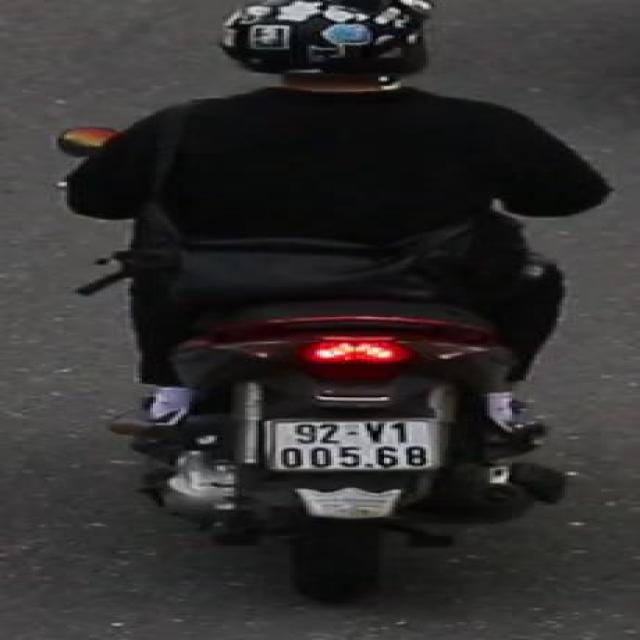LP: (256, 414, 451, 480)
helmet: (207, 0, 452, 90)
